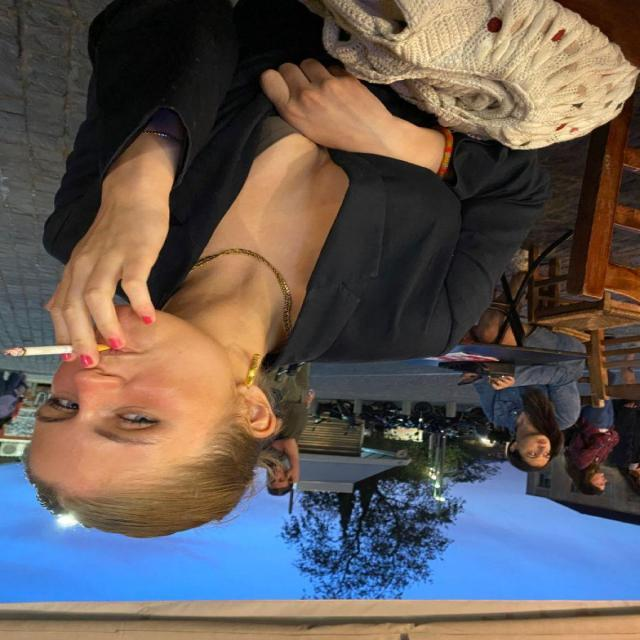cigarette: (0, 338, 103, 386)
